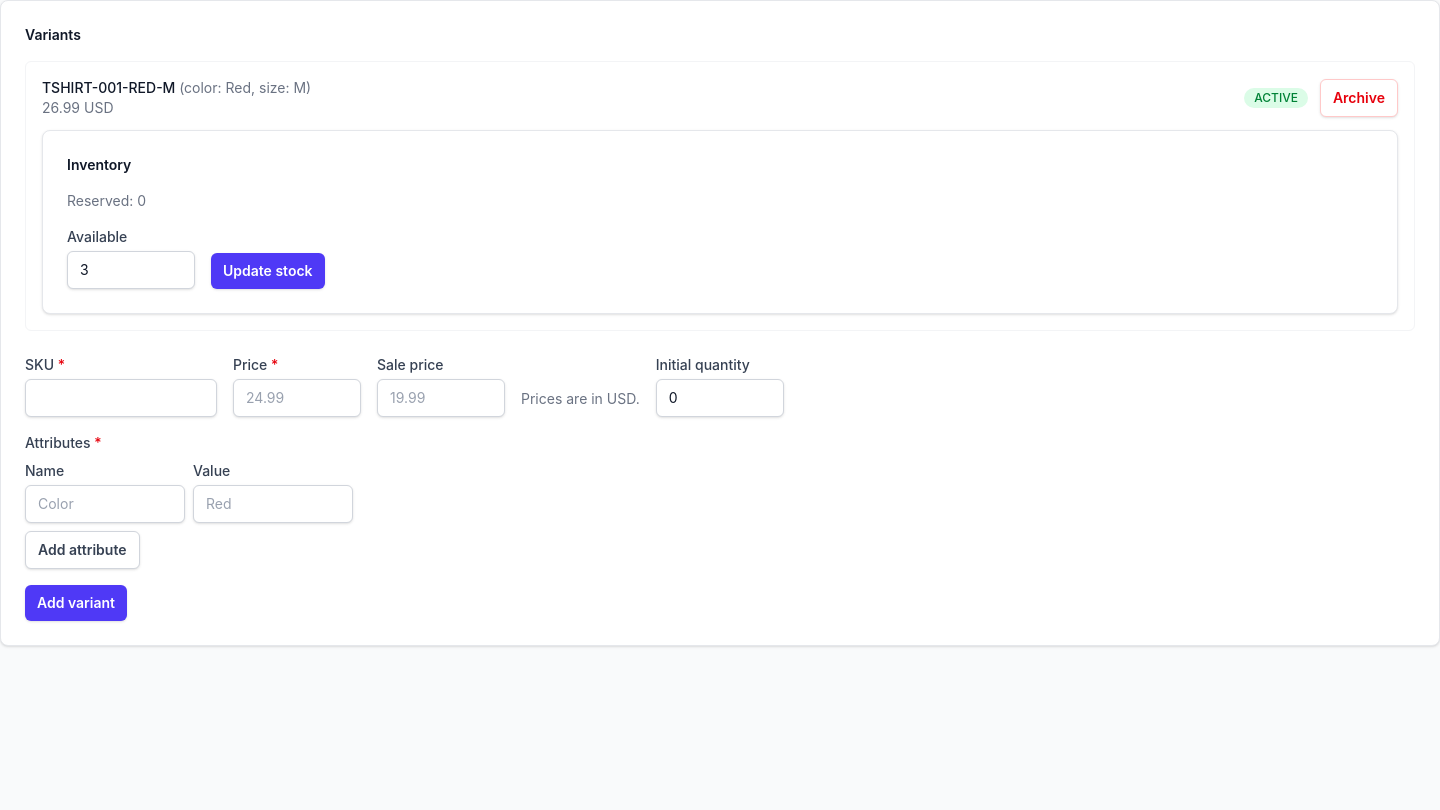
Test: ProductVariantsEditor › archives an active variant and shows a success toast
Step 1. Click the button "Archive" → (1359, 98), box 1320,79 -> 1398,117
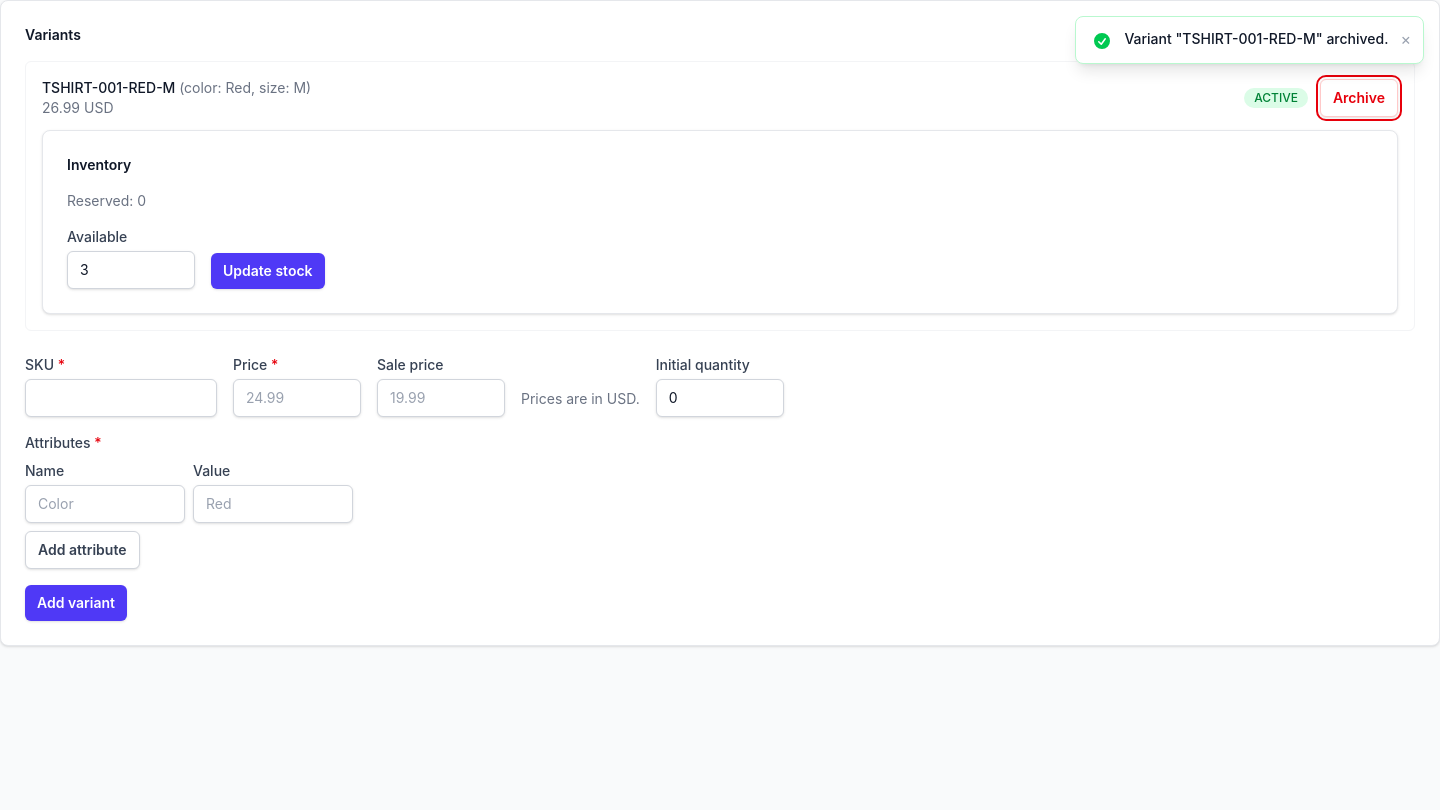
Result: the text "Variant \"TSHIRT-001-RED-M\" archived." is shown at 1124,29 -> 1388,49
